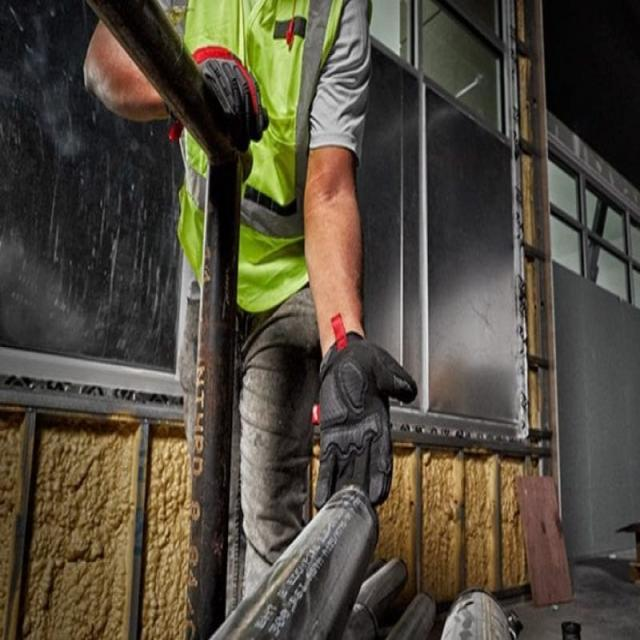gloves: (305, 319, 421, 516), (180, 26, 276, 143)
